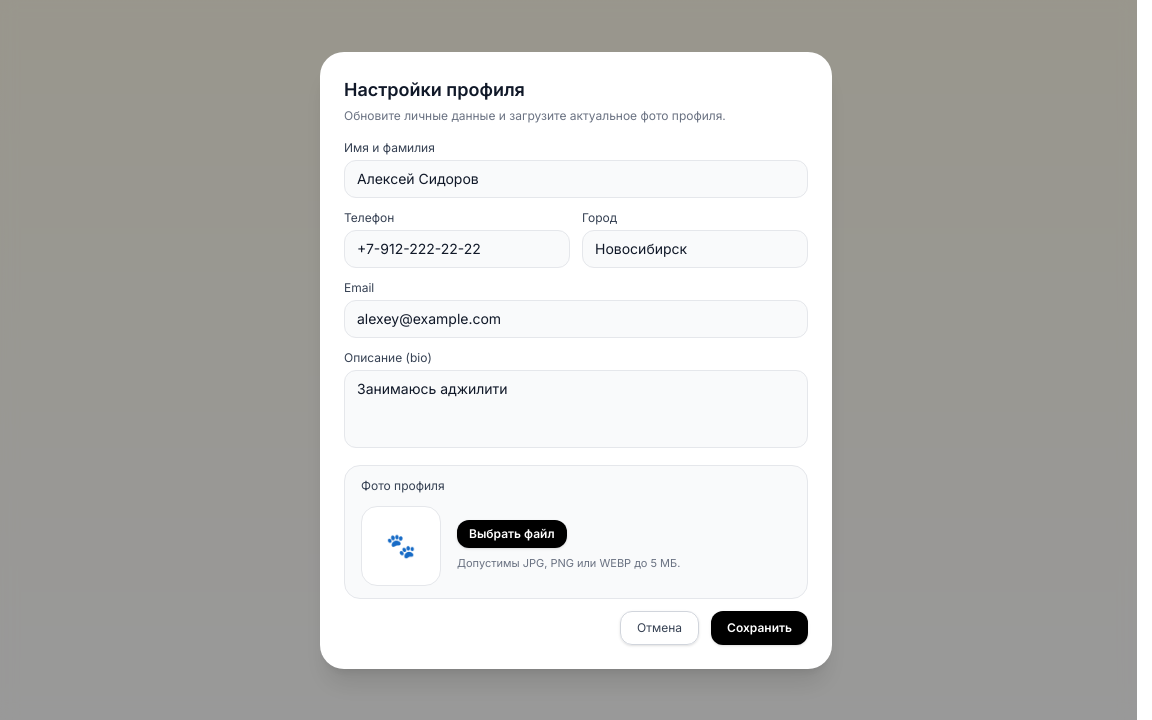
Scenario: ProfileEditModal › shows error when token is missing
The image size is (1152, 720).
Click the button "Сохранить".
click(760, 628)  # box [711,610,808,644]
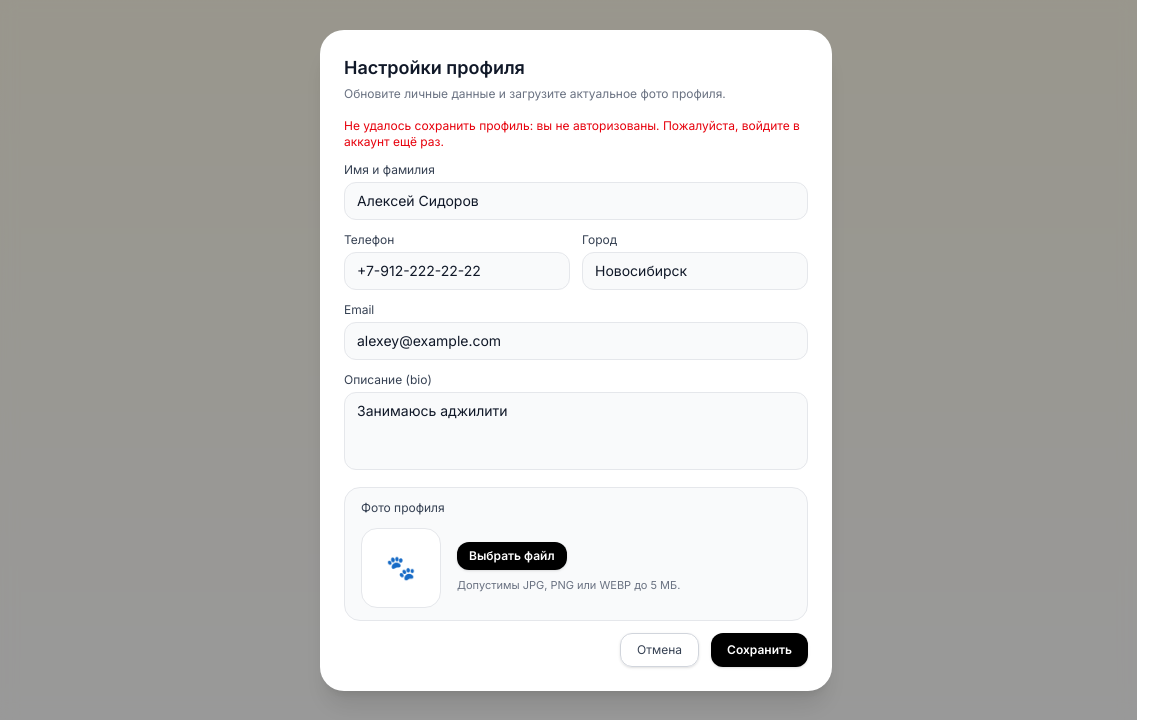
Now the text "Не удалось сохранить профиль" is shown, box [344,118,800,148]
